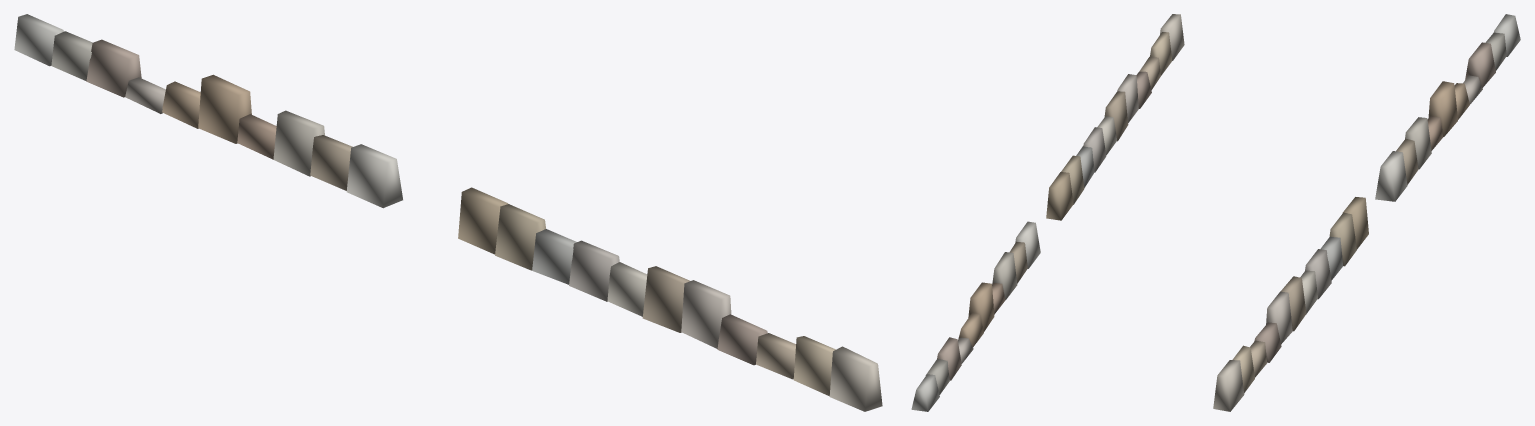
The model's file is farm_-7_-14_far.glb.
The picture shows the model from 3 angles, left to right: view 1: azimuth 30°, elevation 25°; view 2: azimuth 150°, elevation 25°; view 3: azimuth 330°, elevation 25°; orthographic projection. The views are drawn at different scales.
Parts seen in each view (by area): view 1: geometry_0; view 2: geometry_0; view 3: geometry_0.
Part boxes in pixels (x1,y1,x2,y2): geometry_0: (14, 14, 882, 411); geometry_0: (911, 14, 1184, 411); geometry_0: (1213, 14, 1520, 411).
Bounding box in the file's own units: 8.49 × 2.23 × 34.91.
